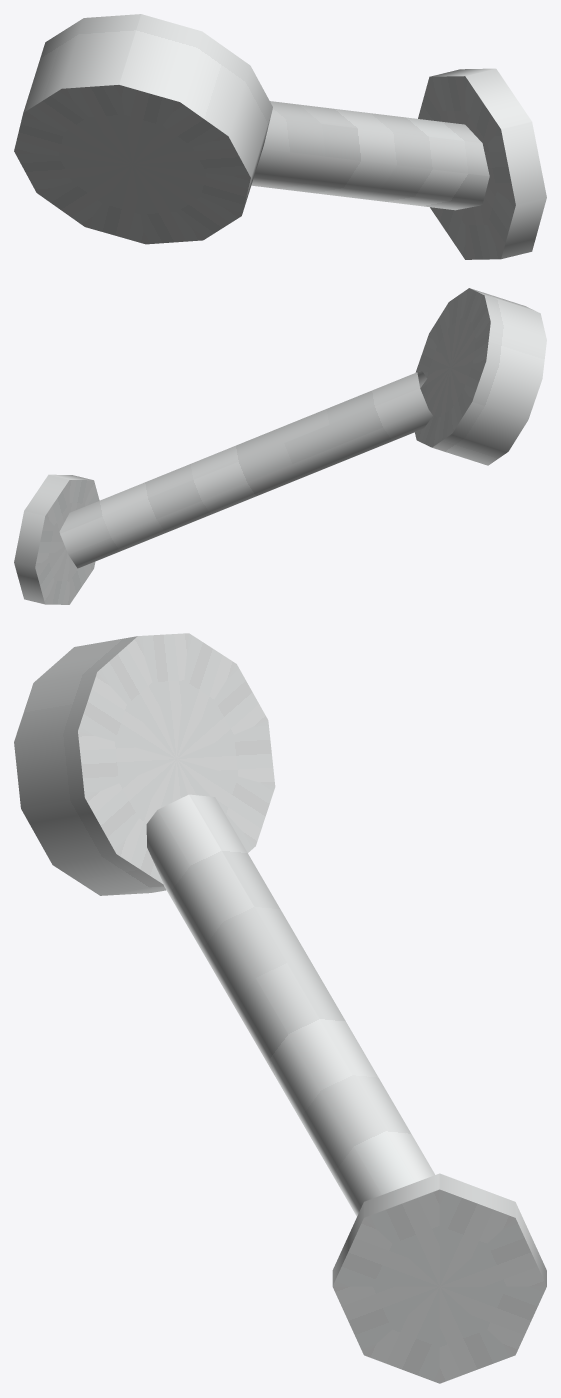
The model's file is nycsignalarm_stub_65.obj.
3 renders of one model, top to bottom at view 1: azimuth 30°, elevation 25°; view 2: azimuth 150°, elevation 25°; view 3: azimuth 270°, elevation 25°, orthographic. The views are drawn at different scales.
Parts seen in each view (by area): view 1: nycsignalarm_stub_65; view 2: nycsignalarm_stub_65; view 3: nycsignalarm_stub_65.
Boxes of the visible parts, left/top/right/bottom form: nycsignalarm_stub_65: left=14, top=14, right=546, bottom=259; nycsignalarm_stub_65: left=14, top=288, right=546, bottom=604; nycsignalarm_stub_65: left=14, top=633, right=546, bottom=1383.
Bounding box in the file's own units: 1.19 × 0.8839 × 0.8698.
